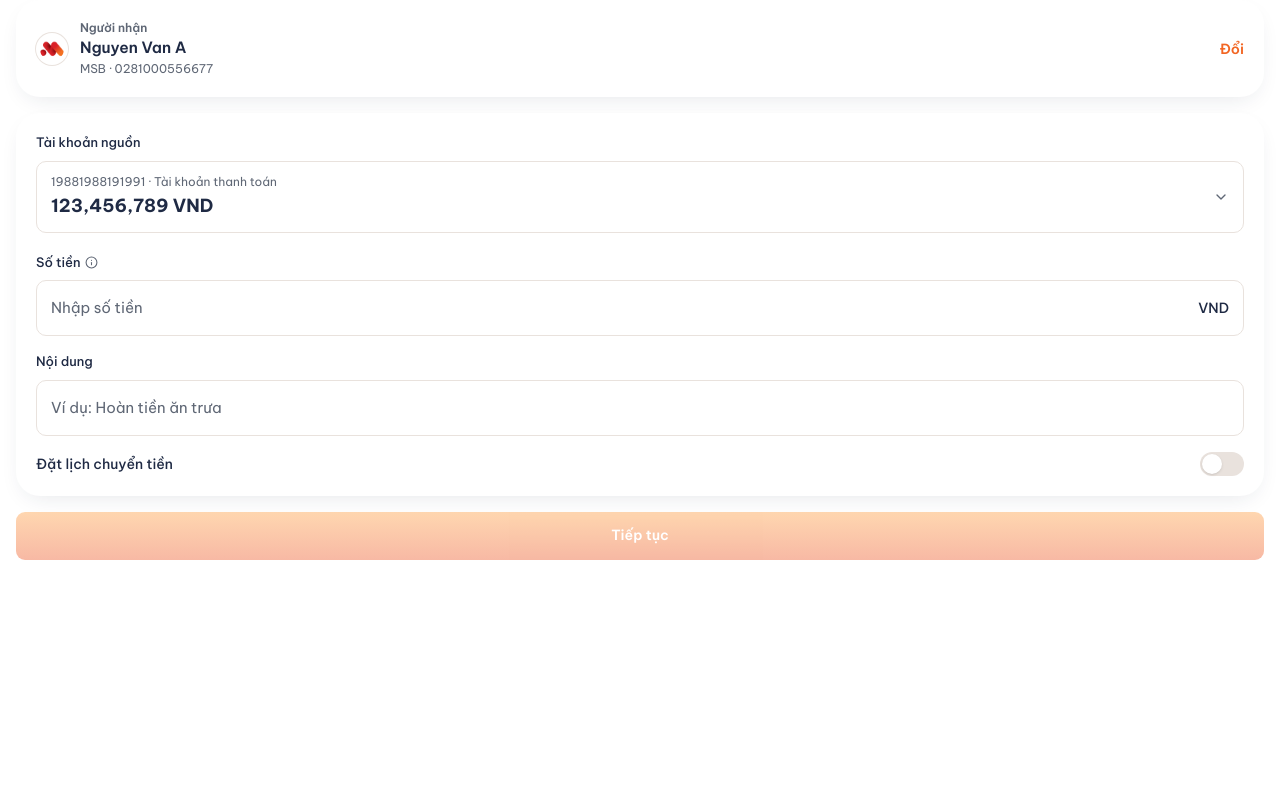
Scenario: TransferAmountStep › shows the full (unmasked) account number for the source account, in the field and the sheet — no logo added there (only the recipient has one)
Expected: the number of pictures is 1, [36,33,68,65]
Expected: the text "19881988191991 · Tài khoản thanh toán" is shown, [51,174,277,189]
Click the button with aria-label "Tài khoản nguồn".
click(164, 181)  # box [36,161,1244,233]
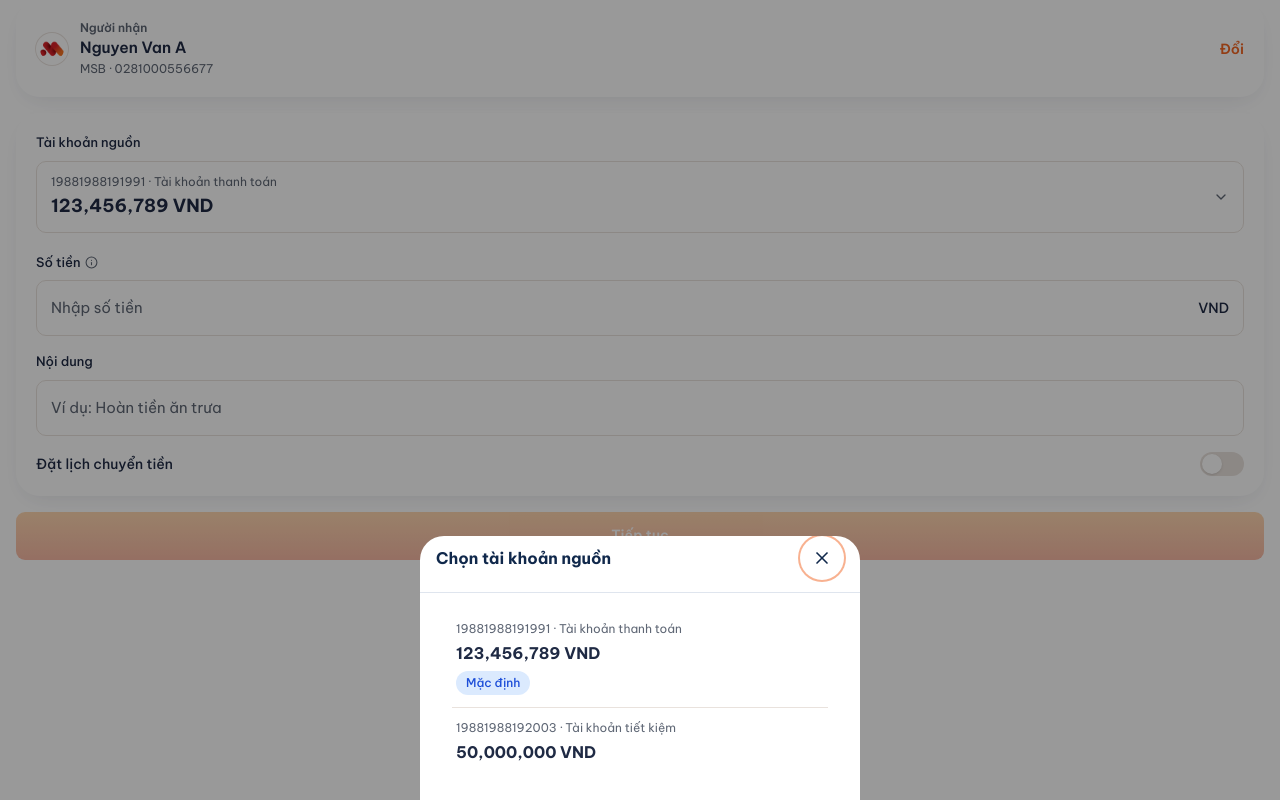
Expected: the number of pictures is 1, [36,33,68,65]
Result: the text "19881988192003 · Tài khoản tiết kiệm" is shown at [456,720,676,736]
